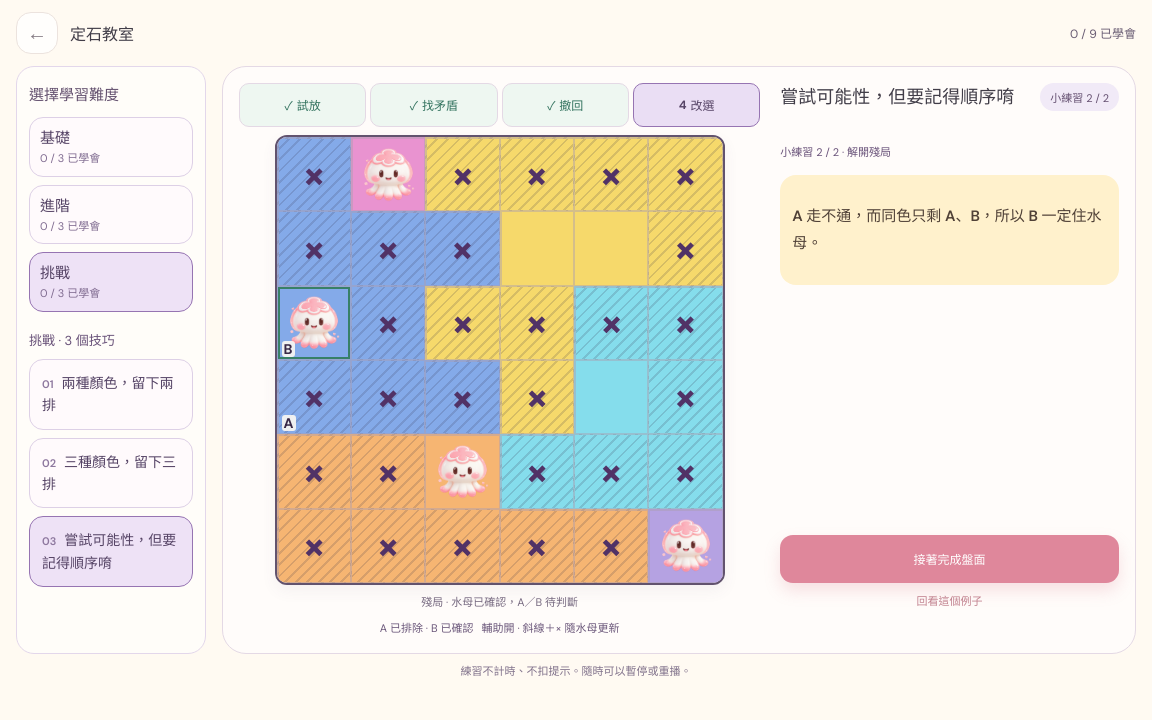
offers play when the final challenge lesson is finished
Earlier steps of the test are not shown.
Later steps or results of the test are not shown.
Click the button with class "trial-next".
click(950, 559)  # box [780,535,1119,583]
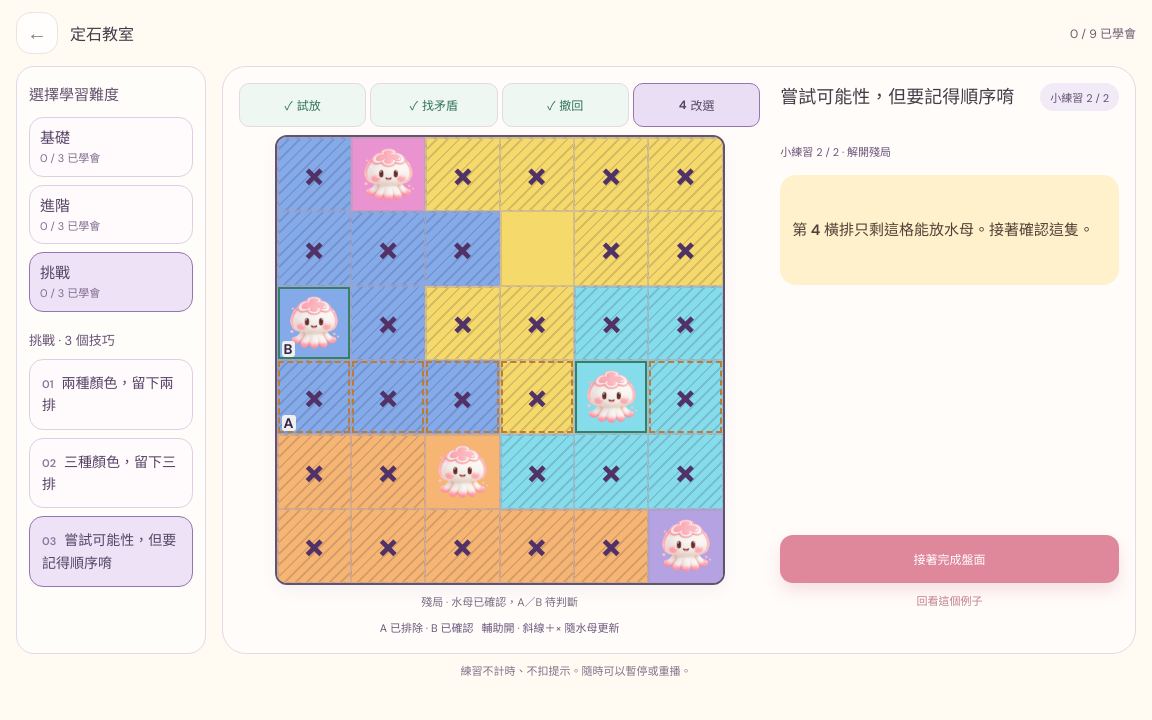
Click the button with class "trial-next".
click(950, 559)  # box [780,535,1119,583]
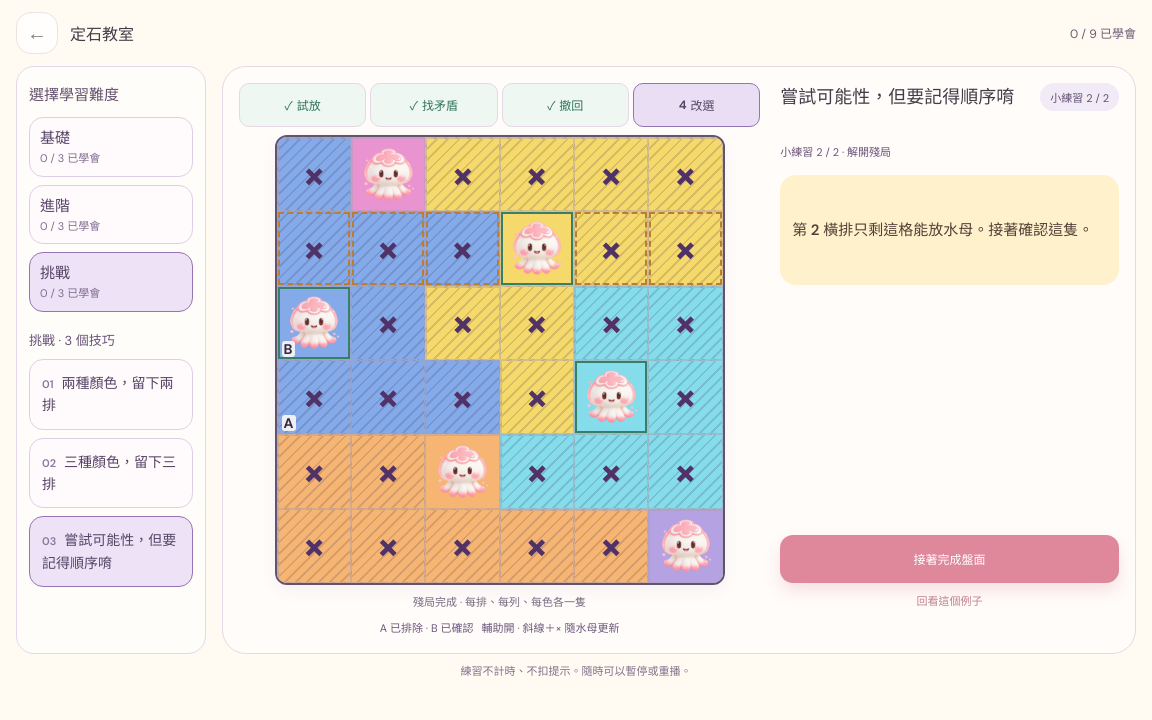
Click the button with class "trial-next".
click(950, 559)  # box [780,535,1119,583]
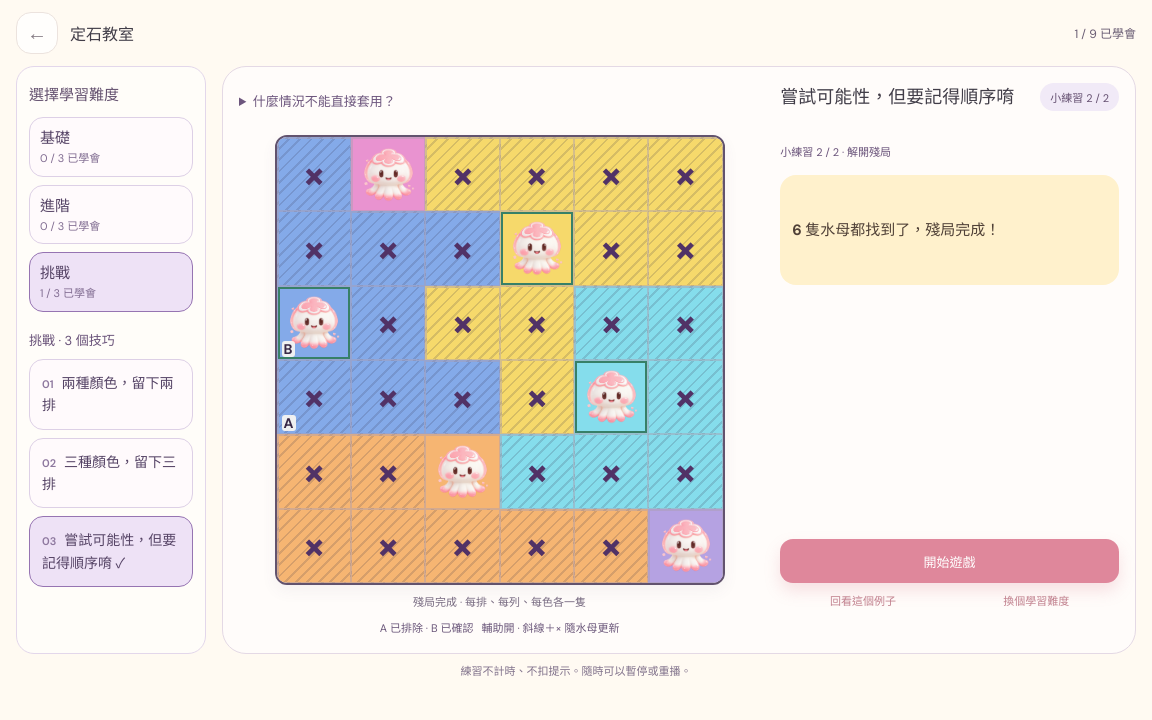
expect the button with class "continue-practice" reads "開始遊戲": met, box [780,539,1119,583]
